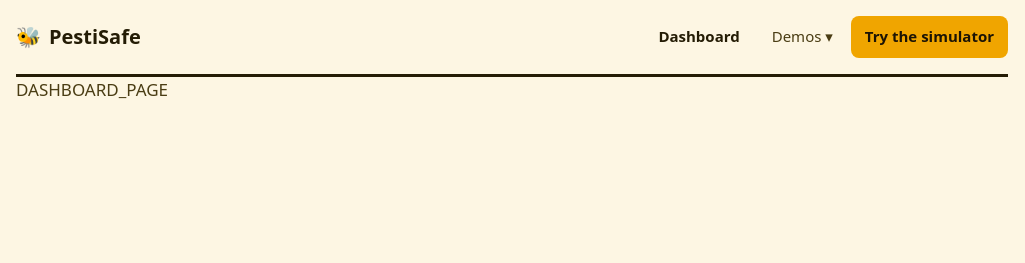
NavBar › navigates to the insect scanner page via the dropdown and closes the menu
Click the button "Demos ▾".
click(802, 37)  # box [758, 16, 847, 58]
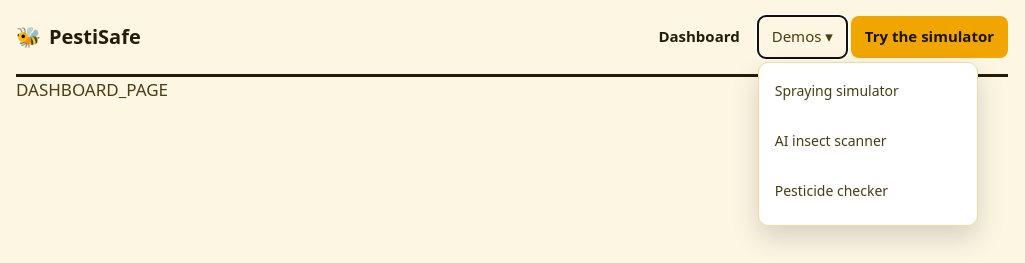
Click the menu item "AI insect scanner".
click(831, 140)  # box [775, 131, 887, 150]
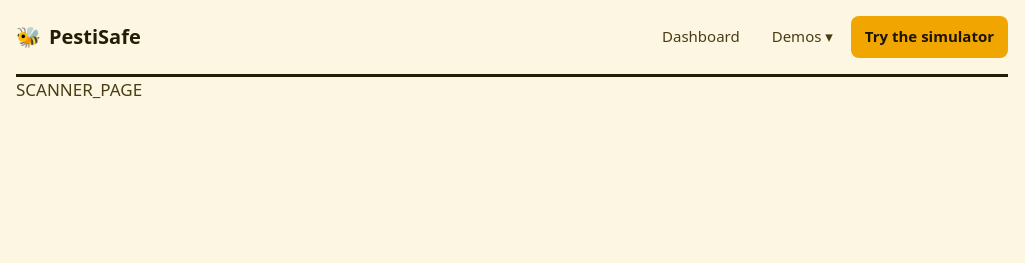
Check: the text "SCANNER_PAGE" is shown, box [16, 78, 142, 100]
Check: the menu is gone
